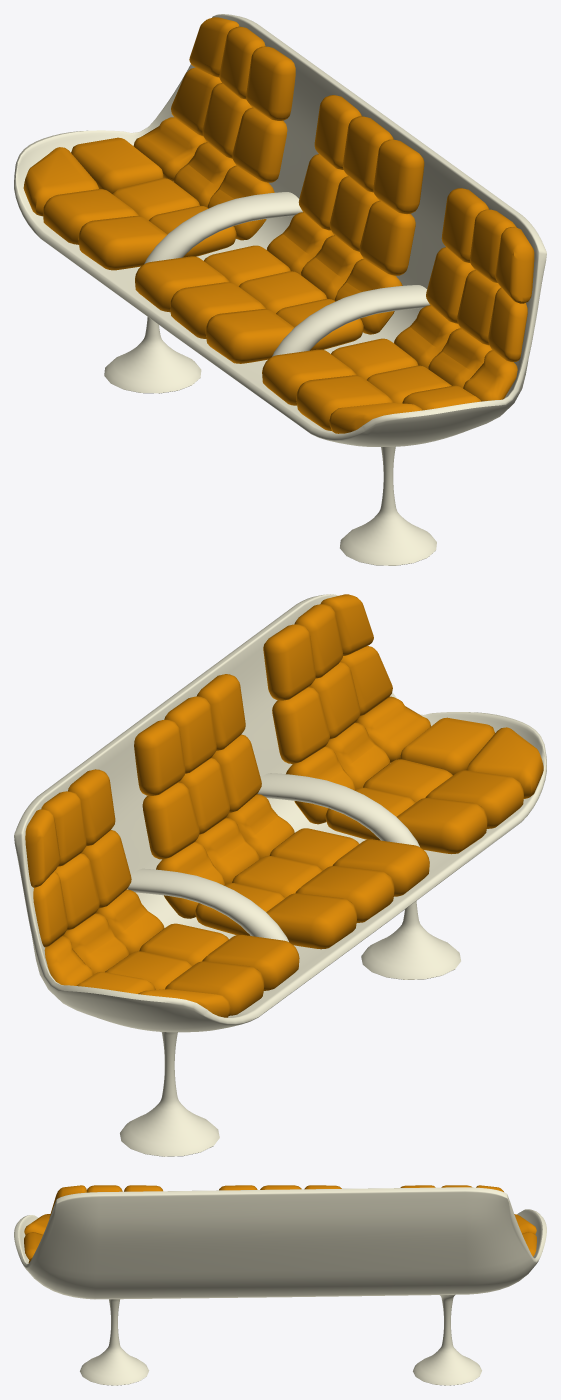
File: Bench.fbx
3 renders of one model, top to bottom at view 1: azimuth 30°, elevation 25°; view 2: azimuth 150°, elevation 25°; view 3: azimuth 270°, elevation 25°, orthographic. The views are drawn at different scales.
Parts seen in each view (by area): view 1: BenchCushions, BenchBody; view 2: BenchCushions, BenchBody; view 3: BenchBody, BenchCushions.
Boxes of the visible parts, left/top/right/bottom form: BenchCushions: left=23, top=17, right=534, bottom=433; BenchBody: left=14, top=14, right=546, bottom=565; BenchCushions: left=25, top=594, right=543, bottom=1017; BenchBody: left=14, top=594, right=546, bottom=1156; BenchBody: left=14, top=1187, right=546, bottom=1385; BenchCushions: left=24, top=1185, right=536, bottom=1263.
Size of the model in its own units: 3.29 by 4.41 by 9.6.
